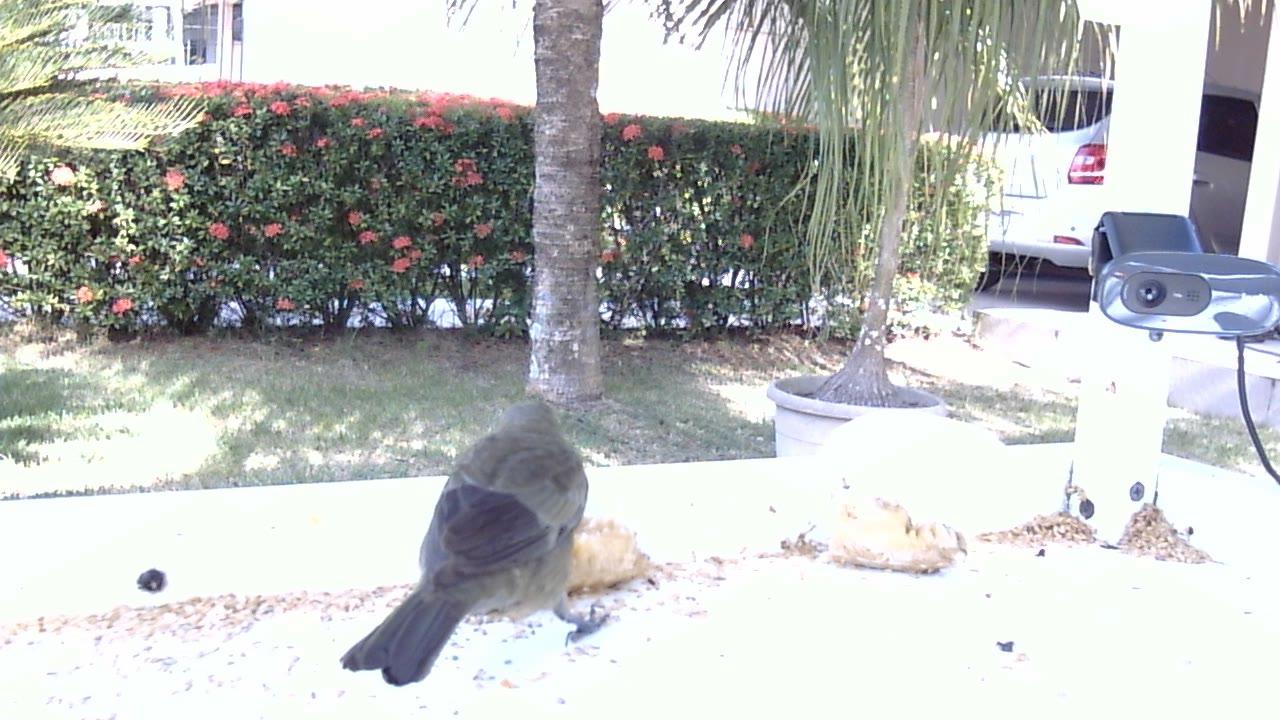sanhaco_do_coqueiro: (340, 401, 614, 689)
